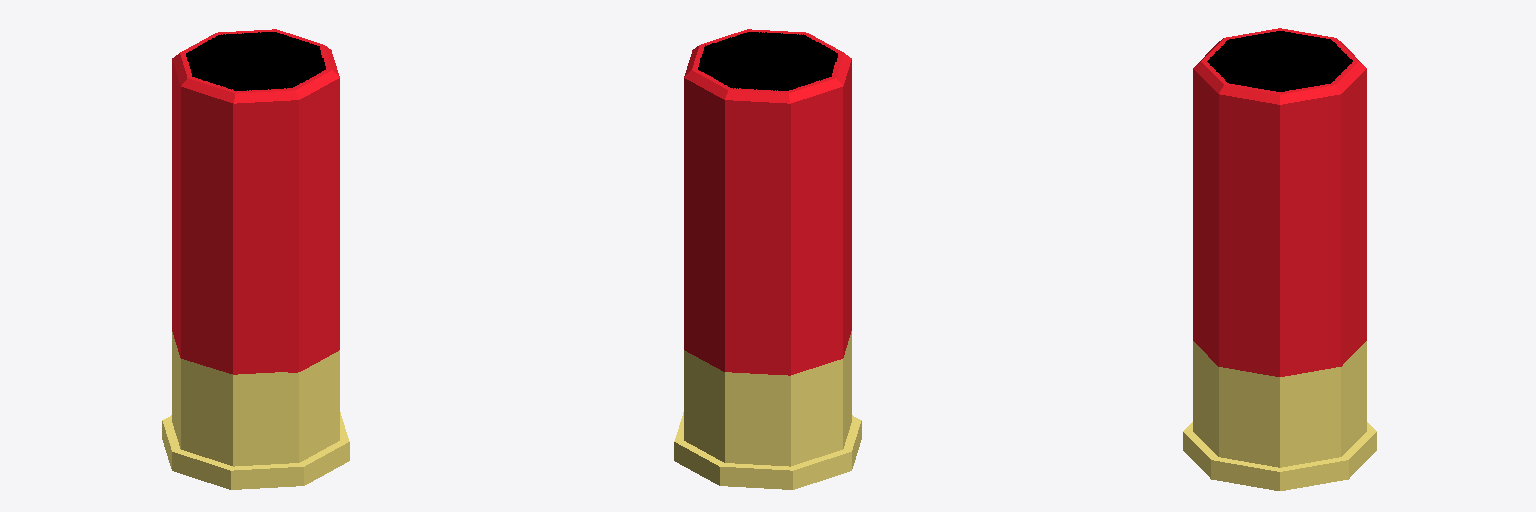
3 views of the same model, side by side, from view 1: azimuth 30°, elevation 25°; view 2: azimuth 150°, elevation 25°; view 3: azimuth 270°, elevation 25° (orthographic).
Visible parts, largest first — view 1: BulletCase_ShotGun; view 2: BulletCase_ShotGun; view 3: BulletCase_ShotGun.
Boxes of the visible parts, x1=… form: BulletCase_ShotGun: x1=162, y1=29, x2=349, y2=489; BulletCase_ShotGun: x1=674, y1=29, x2=861, y2=489; BulletCase_ShotGun: x1=1183, y1=28, x2=1376, y2=490.
Bounding box in the file's own units: 0.195 × 0.432 × 0.195.
1 materials, 1 textured.